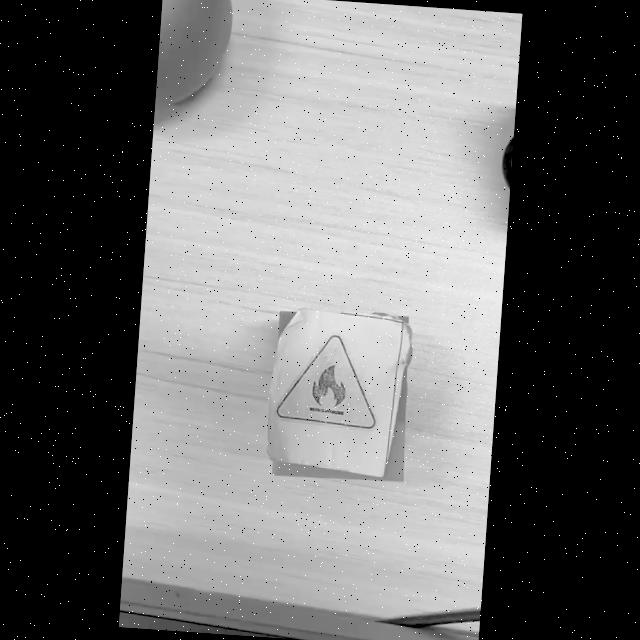Fire: (276, 335, 374, 429)
